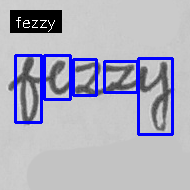e: (45, 58, 70, 96)
f: (16, 54, 42, 126)
y: (136, 58, 171, 135)
z: (70, 59, 101, 97), (102, 61, 134, 95)
